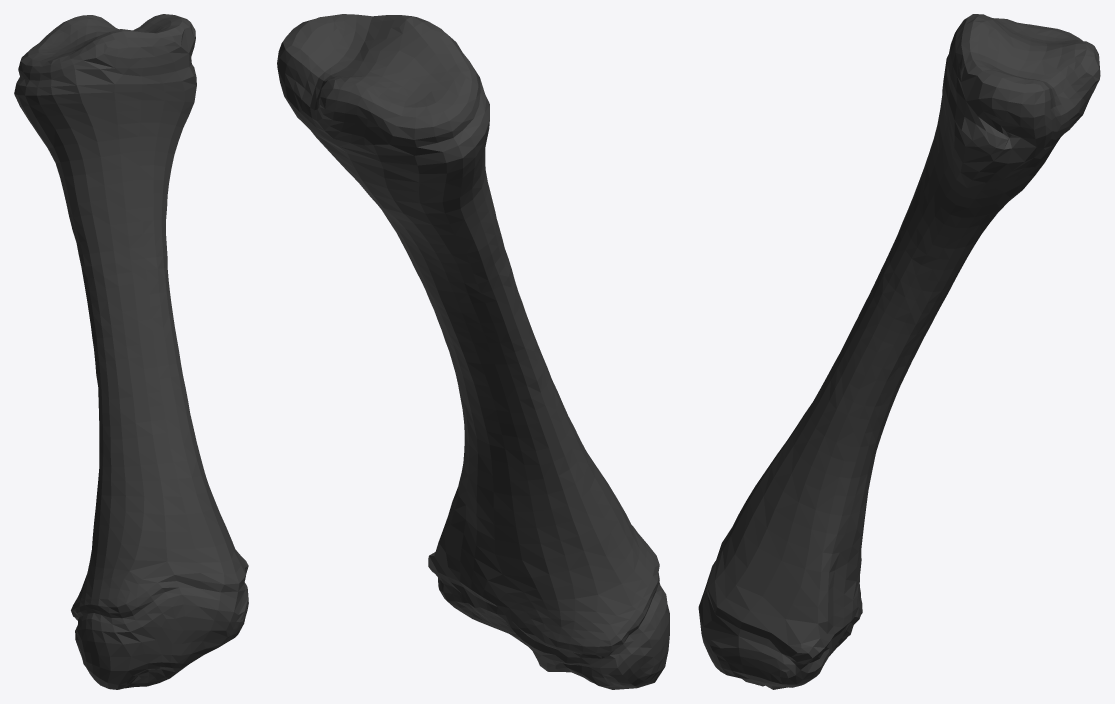
File: Radial_bone_Radial_bone.glb
3 renders of one model, left to right at view 1: azimuth 30°, elevation 25°; view 2: azimuth 150°, elevation 25°; view 3: azimuth 270°, elevation 25°, orthographic. The views are drawn at different scales.
Parts seen in each view (by area): view 1: Radial_bone_Radial_bone; view 2: Radial_bone_Radial_bone; view 3: Radial_bone_Radial_bone.
Part boxes in pixels (box(x1,y1,x2,y2)): Radial_bone_Radial_bone: box(14, 14, 248, 689); Radial_bone_Radial_bone: box(277, 14, 669, 689); Radial_bone_Radial_bone: box(698, 14, 1100, 689).
Bounding box in the file's own units: 0.1708 × 0.4638 × 0.2418.
Materials: 1 (1 with a texture image).
